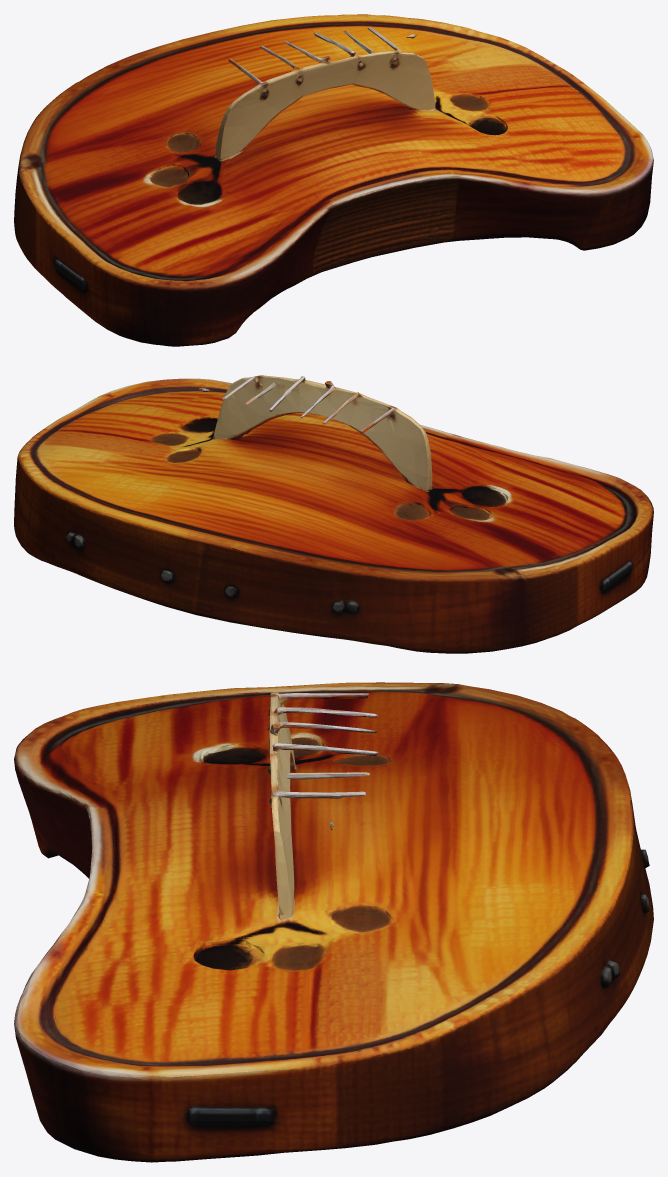
The model's file is wooden-violin-bridge-rustic.jpeg.glb.
3 views of the same model, one above another, from view 1: azimuth 30°, elevation 25°; view 2: azimuth 150°, elevation 25°; view 3: azimuth 270°, elevation 25° (orthographic). The views are drawn at different scales.
Visible parts, largest first — view 1: world; view 2: world; view 3: world.
Part boxes in pixels (x1,y1,x2,y2): world: (14, 14, 653, 346); world: (14, 375, 653, 653); world: (14, 682, 653, 1162).
Size of the model in its own units: 0.9997 by 0.3131 by 0.7053.
Materials: 1 (1 with a texture image).
